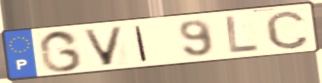9: (177, 18, 216, 58)
C: (263, 9, 311, 51)
G: (38, 29, 85, 74)
I: (133, 24, 150, 63)
L: (224, 14, 260, 55)
V: (80, 25, 127, 68)
